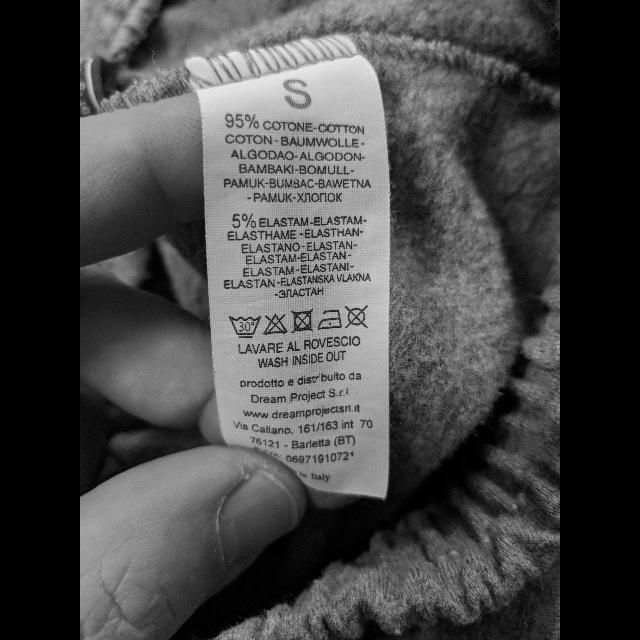30C: (228, 314, 262, 340)
DN_bleach: (262, 312, 288, 336)
DN_dry_clean: (344, 304, 368, 330)
DN_tumble_dry: (290, 308, 314, 334)
iron_low: (316, 309, 342, 331)
